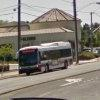Bus: (16, 39, 78, 76)
